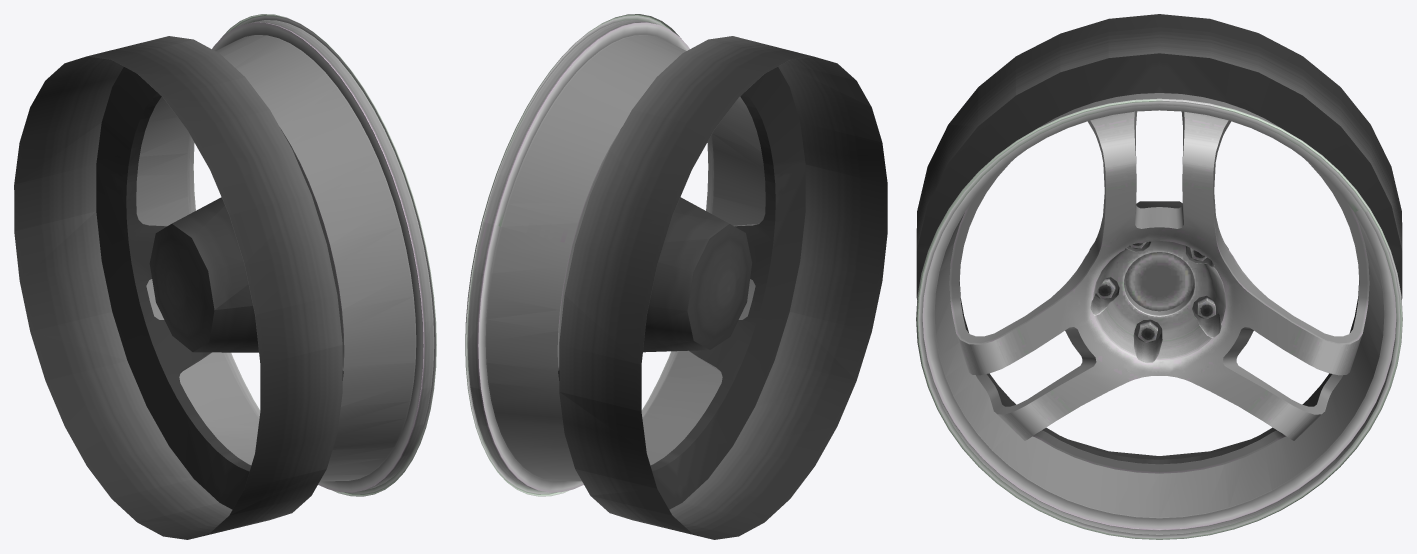
The model's file is wheel11.fbx.
3 views of the same model, side by side, from view 1: azimuth 30°, elevation 25°; view 2: azimuth 150°, elevation 25°; view 3: azimuth 270°, elevation 25° (orthographic).
Parts seen in each view (by area): view 1: adv_superadvanrv2_wheel_wheel_inner_rim_, wheel_rim, adv_superadvanrv2_wheel_wheel_rim_; view 2: adv_superadvanrv2_wheel_wheel_inner_rim_, wheel_rim, adv_superadvanrv2_wheel_wheel_rim_; view 3: adv_superadvanrv2_wheel_wheel_rim_, wheel_rim, adv_superadvanrv2_wheel_wheel_inner_rim_.
Part boxes in pixels (x1,y1,x2,y2): adv_superadvanrv2_wheel_wheel_inner_rim_: (14,36,343,539); wheel_rim: (136,14,436,496); adv_superadvanrv2_wheel_wheel_rim_: (142,14,436,496); adv_superadvanrv2_wheel_wheel_inner_rim_: (558,36,887,539); wheel_rim: (465,14,765,496); adv_superadvanrv2_wheel_wheel_rim_: (466,14,759,496); adv_superadvanrv2_wheel_wheel_rim_: (949,111,1369,473); wheel_rim: (916,93,1402,539); adv_superadvanrv2_wheel_wheel_inner_rim_: (916,14,1402,464).
Size of the model in its own units: 0.2251 by 0.5467 by 0.545.
1 material, 1 textured.
